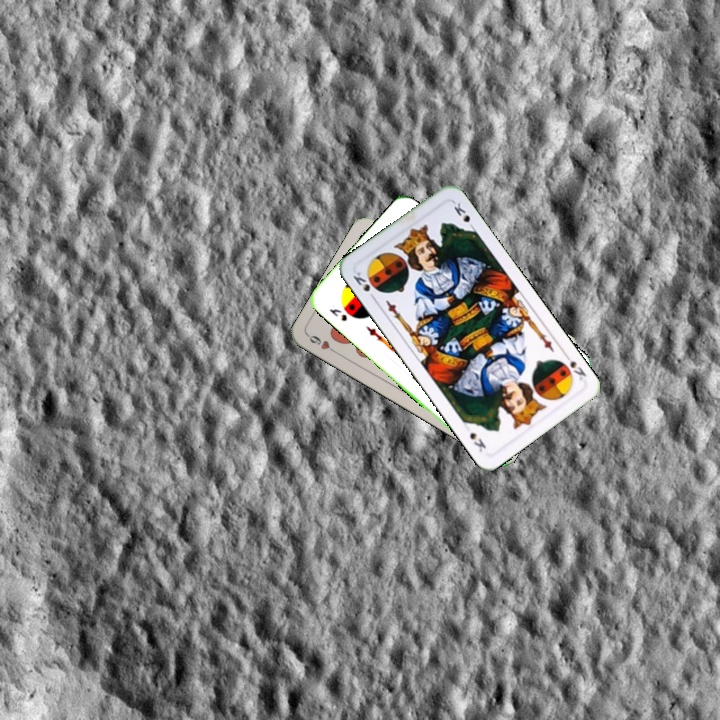H9: (304, 331, 341, 356)
SK: (349, 268, 379, 303), (560, 349, 589, 383), (325, 304, 350, 324)
